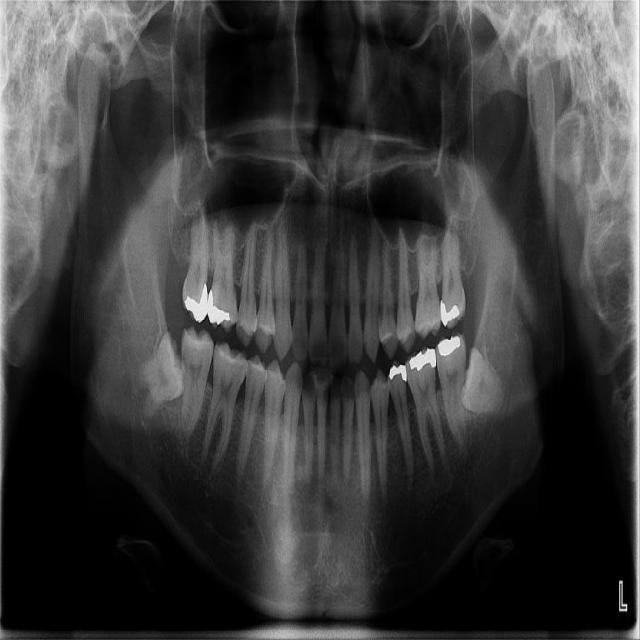52: (433, 329, 471, 382), (404, 343, 439, 397), (205, 283, 241, 334), (182, 275, 209, 322), (440, 281, 466, 329), (385, 357, 410, 403)
73: (596, 586, 600, 598)
BioHorizons Implant: (439, 207, 472, 329)
Biomet 3i Implant: (457, 347, 520, 420)
Blue Sky Bio Implant: (434, 330, 468, 449)
Caries: (182, 200, 209, 322)
Implant: (181, 325, 215, 441)
Keystone Dental Implant: (131, 329, 193, 418)
